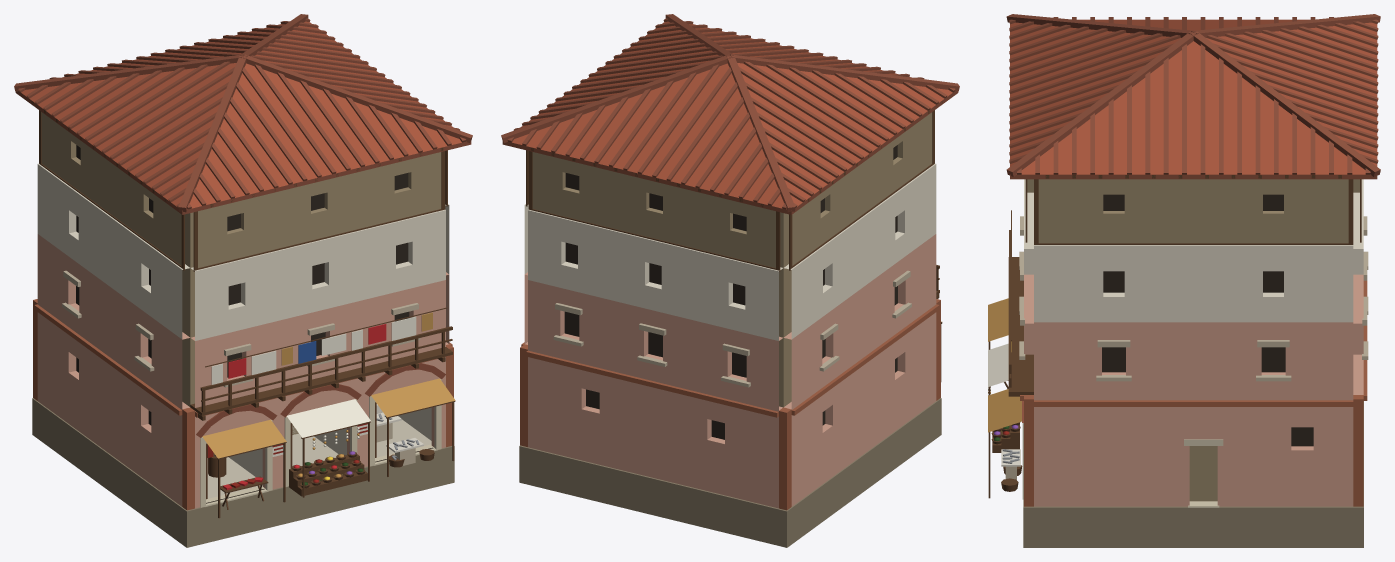
Rendered from rome_insula_o.glb.
3 renders of one model, left to right at view 1: azimuth 30°, elevation 25°; view 2: azimuth 150°, elevation 25°; view 3: azimuth 270°, elevation 25°, orthographic. The views are drawn at different scales.
Visible parts, largest first — view 1: rome_insula_o; view 2: rome_insula_o; view 3: rome_insula_o.
Boxes of the visible parts, x1=… form: rome_insula_o: x1=14, y1=14, x2=472, y2=547; rome_insula_o: x1=501, y1=14, x2=959, y2=547; rome_insula_o: x1=988, y1=14, x2=1380, y2=547.
Bounding box in the file's own units: 13.25 × 17.32 × 13.91.
